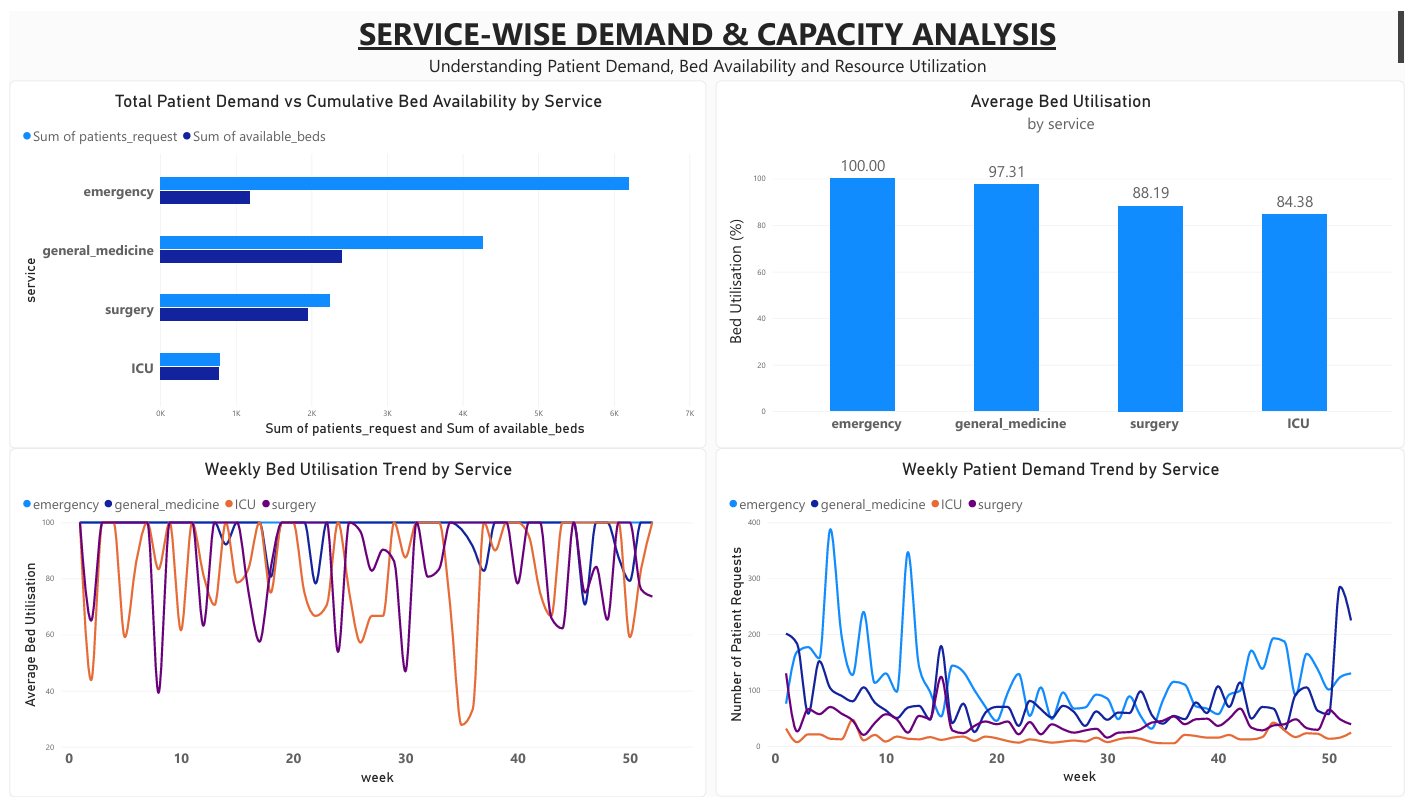

This screenshot's page, from the dashboard's own definition file:
{"tool":"powerbi","page":{"name":"Demand & Capacity Analysis.","canvas":[1920,1080],"ordinal":1},"visuals":[{"type":"textbox","box":[10.3,0,1910.1,94.7],"z":0},{"type":"clusteredBarChart","title":"Total Patient Demand vs Cumulative Bed Availability by Service","fields":{"Category":["Dim_service.service"],"Y":["Sum(Hospital_Operations_Analysis - Services_weekly_SQL.patients_request)","Sum(Hospital_Operations_Analysis - Services_weekly_SQL.available_beds)"]},"box":[0,94.7,959.2,506.3],"z":1000},{"type":"clusteredColumnChart","fields":{"Category":["Dim_service.service"],"Y":["Hospital_Operations_Analysis - Services_weekly_SQL.Average Bed Utilisation"]},"box":[971.5,94.7,948.9,506.3],"z":2000},{"type":"lineChart","title":"Weekly Bed Utilisation Trend by Service","fields":{"Category":["Hospital_Operations_Analysis - Services_weekly_SQL.week"],"Series":["Dim_service.service"],"Y":["Hospital_Operations_Analysis - Services_weekly_SQL.Average Bed Utilisation"]},"box":[0,601,959.2,479.6],"z":3000},{"type":"lineChart","title":"Weekly Patient Demand Trend by Service","fields":{"Category":["Hospital_Operations_Analysis - Services_weekly_SQL.week"],"Series":["Hospital_Operations_Analysis - Services_weekly_SQL.service"],"Y":["Sum(Hospital_Operations_Analysis - Services_weekly_SQL.patients_request)"]},"box":[971.5,601,948,479],"z":4000}]}

Visuals, with their boxes in screenshot pixels (x1, y1, x2, y2), scaled from the page's 1920x1080 canvas onto the 1416x806 screenshot:
textbox: select_region(8, 0, 1415, 71)
"Total Patient Demand vs Cumulative Bed Availability by Service" clusteredBarChart: select_region(0, 71, 707, 449)
clusteredColumnChart - Dim_service.service x Hospital_Operations_Analysis - Services_weekly_SQL.Average Bed Utilisation: select_region(716, 71, 1415, 449)
"Weekly Bed Utilisation Trend by Service" lineChart: select_region(0, 449, 707, 805)
"Weekly Patient Demand Trend by Service" lineChart: select_region(716, 449, 1415, 805)
